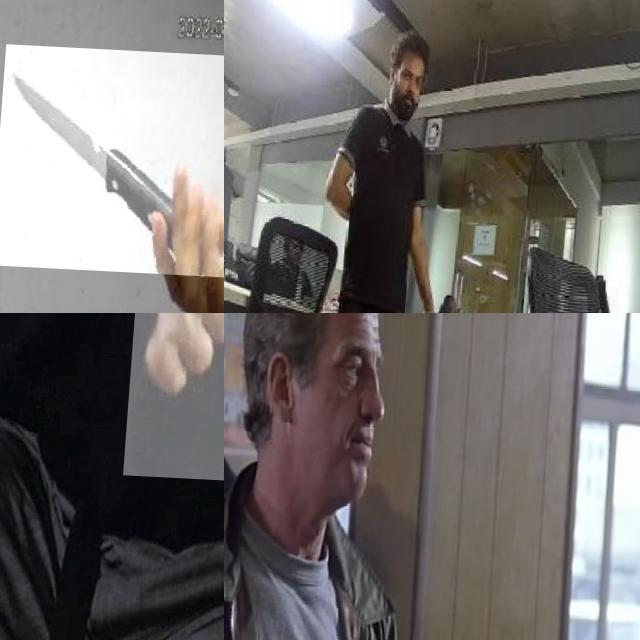-: (0, 40, 224, 271)
gun-knife-thesis - v11 Yolov5 augmented: (128, 313, 224, 485)
